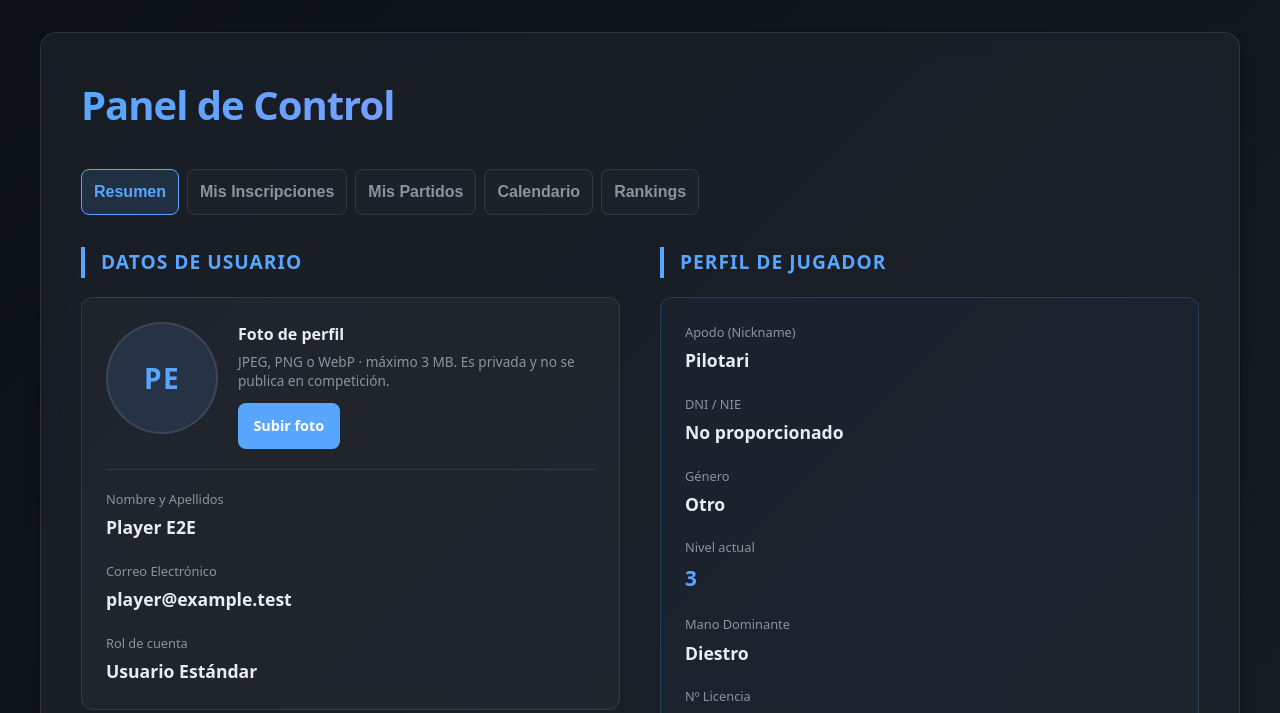
Test: Dashboard › shows Madrid time in Mis Partidos and Calendario: 2026-10-23T17:00:00+02:00
This screenshot has width=1280, height=713.
Click the tab "Mis Partidos".
click(416, 192)  # box [355, 169, 476, 215]
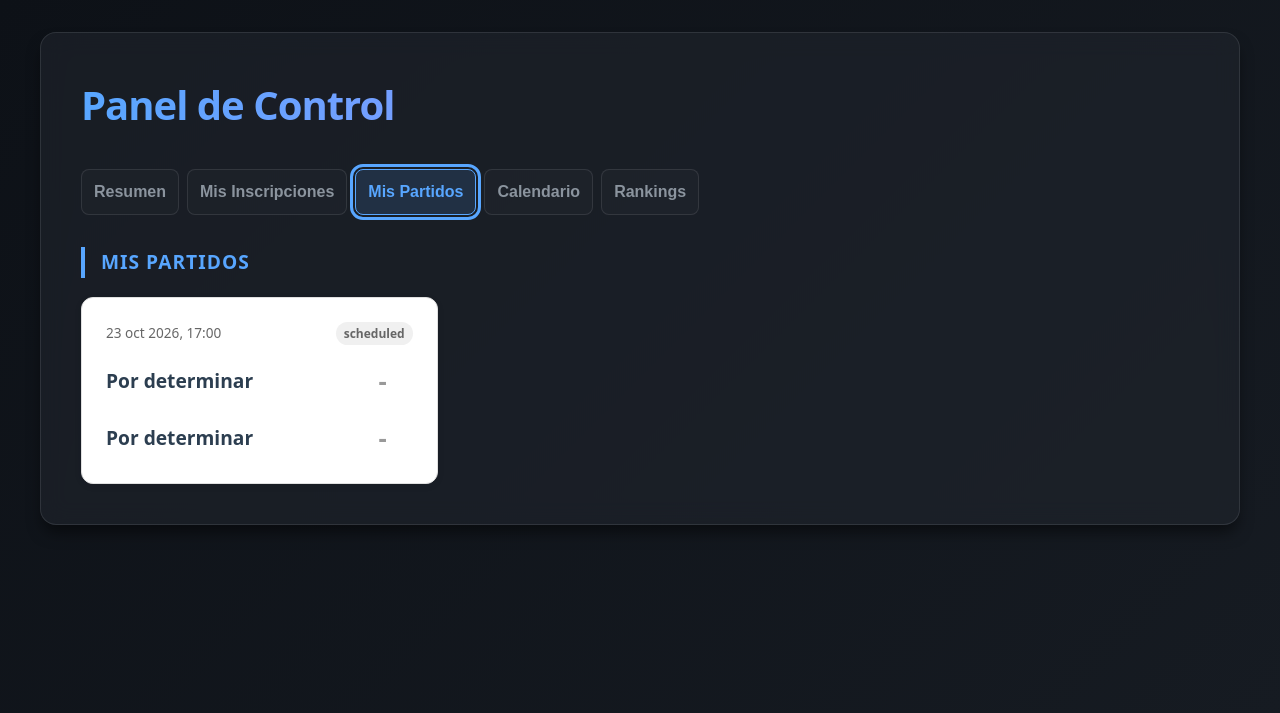
Check: the text "23 oct 2026, 17:00" is shown, box [106, 322, 221, 345]
Click the tab "Calendario".
click(539, 192)  # box [484, 169, 593, 215]
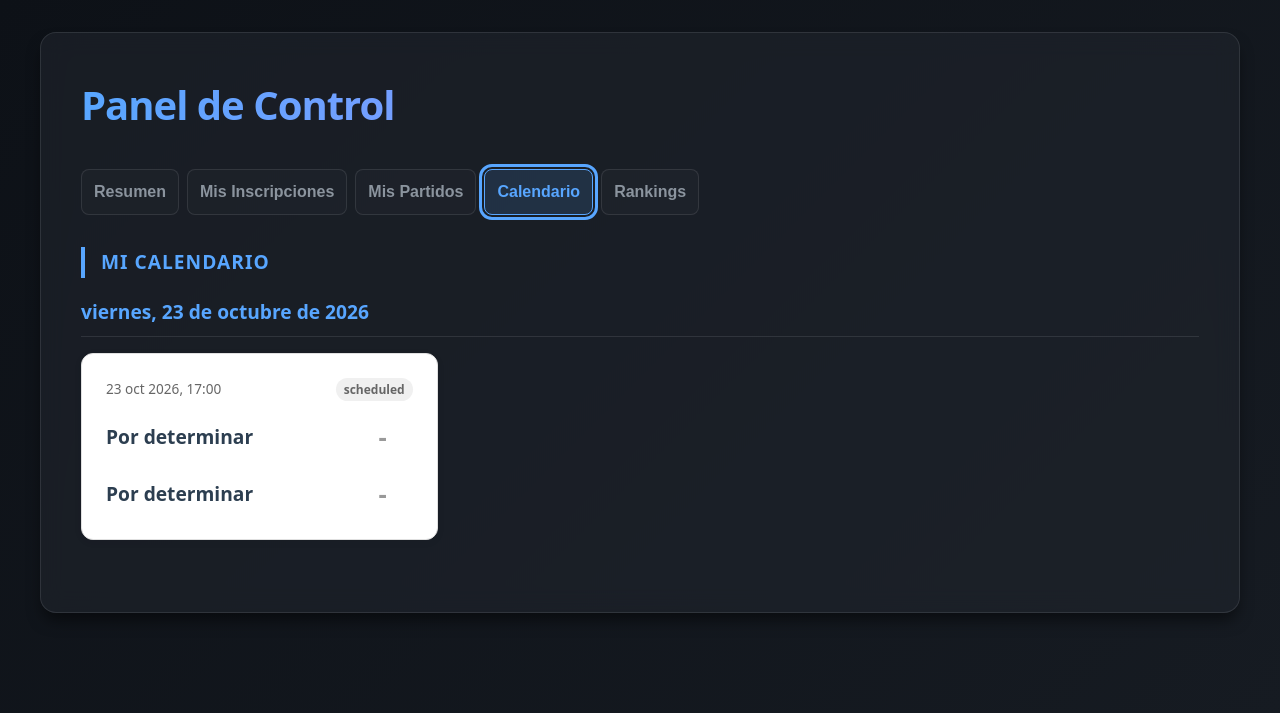
Check: the text "23 oct 2026, 17:00" is shown, box [106, 378, 221, 401]
Check: the heading "viernes, 23 de octubre de 2026" is shown, box [81, 297, 1199, 337]
